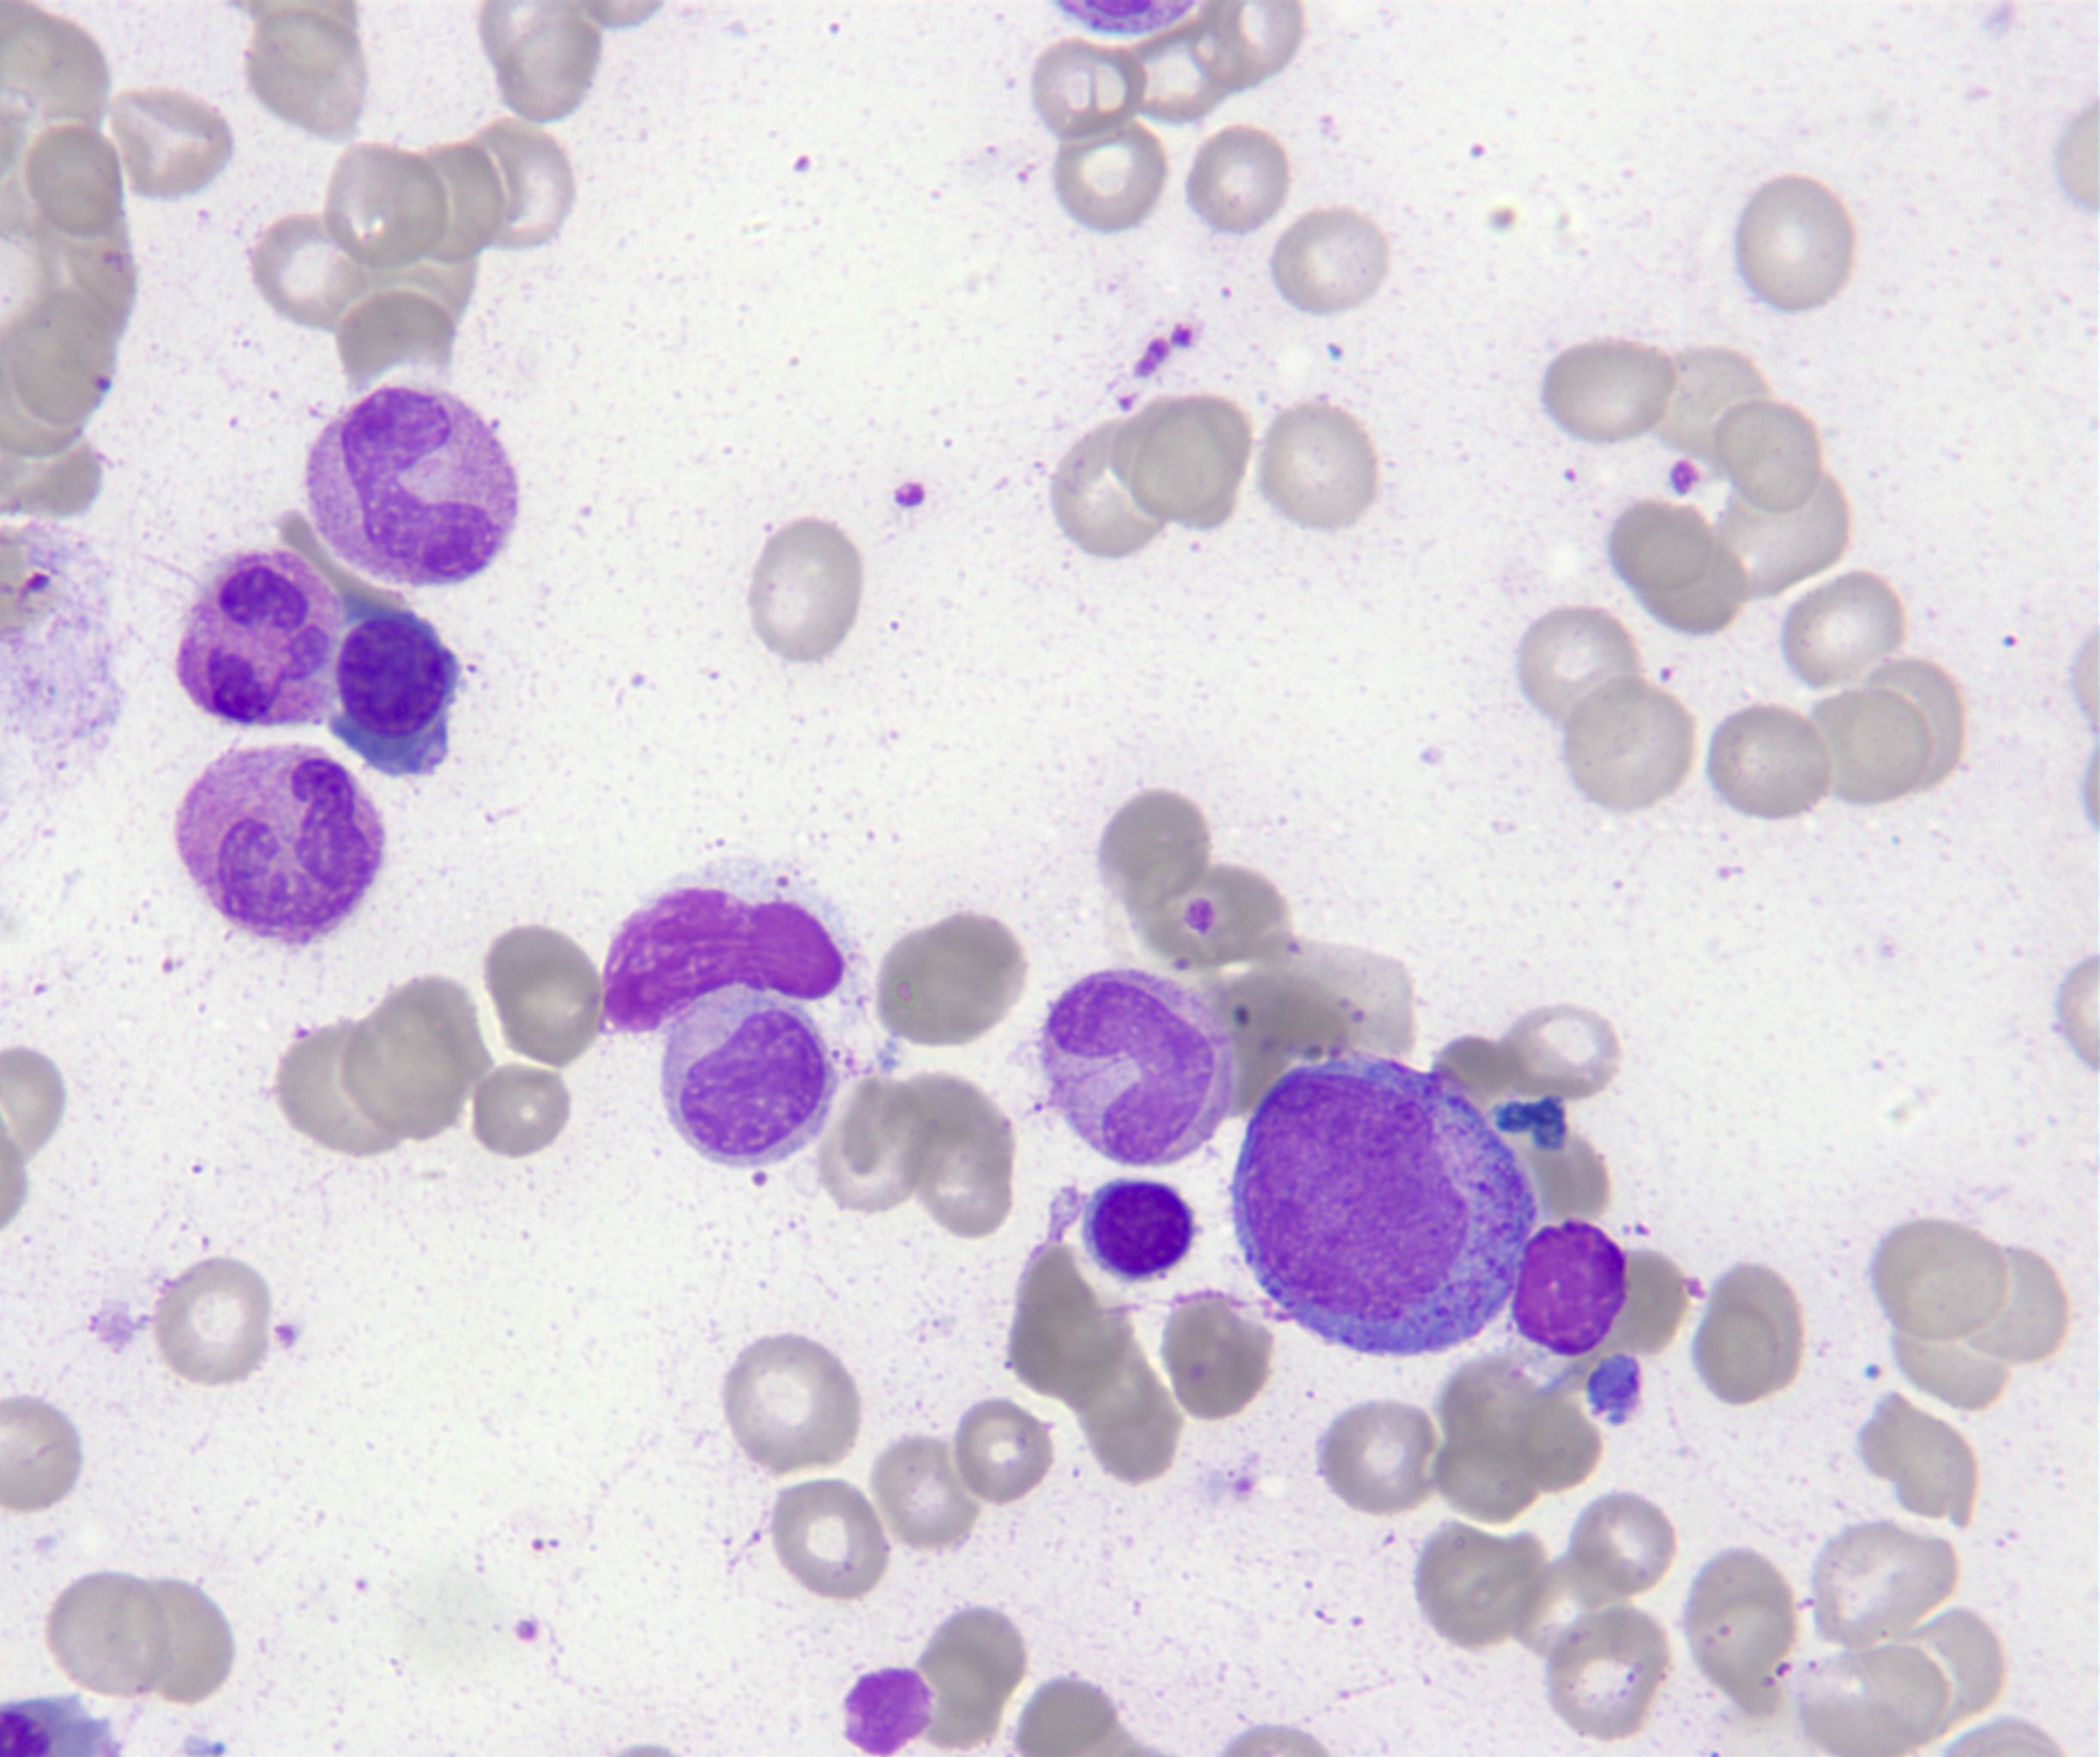24: (330, 585, 459, 776)
3: (1235, 1057, 1537, 1356), (663, 989, 835, 1166)
32: (1083, 1178, 1193, 1282)
4: (1040, 968, 1233, 1167)
5: (307, 382, 518, 586)
6: (176, 742, 385, 944), (174, 550, 342, 728)
x: (600, 886, 844, 1033), (1512, 1218, 1627, 1356), (844, 1672, 935, 1757)
